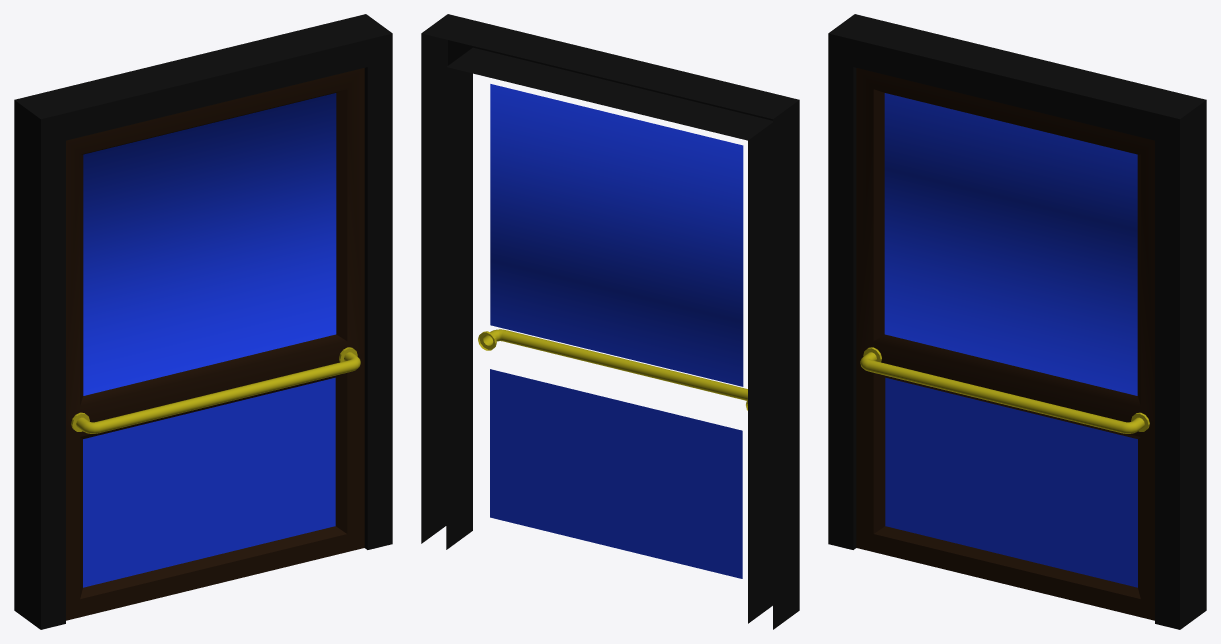
File: Porta4.FBX
3 renders of one model, left to right at view 1: azimuth 30°, elevation 25°; view 2: azimuth 150°, elevation 25°; view 3: azimuth 330°, elevation 25°, orthographic.
Parts seen in each view (by area): view 1: porta4; view 2: porta4; view 3: porta4.
Part boxes in pixels (x1,y1,x2,y2): porta4: [14, 14, 392, 629]; porta4: [421, 14, 799, 629]; porta4: [828, 14, 1206, 629].
Bounding box in the file's own units: 86.78 × 120 × 15.72.
